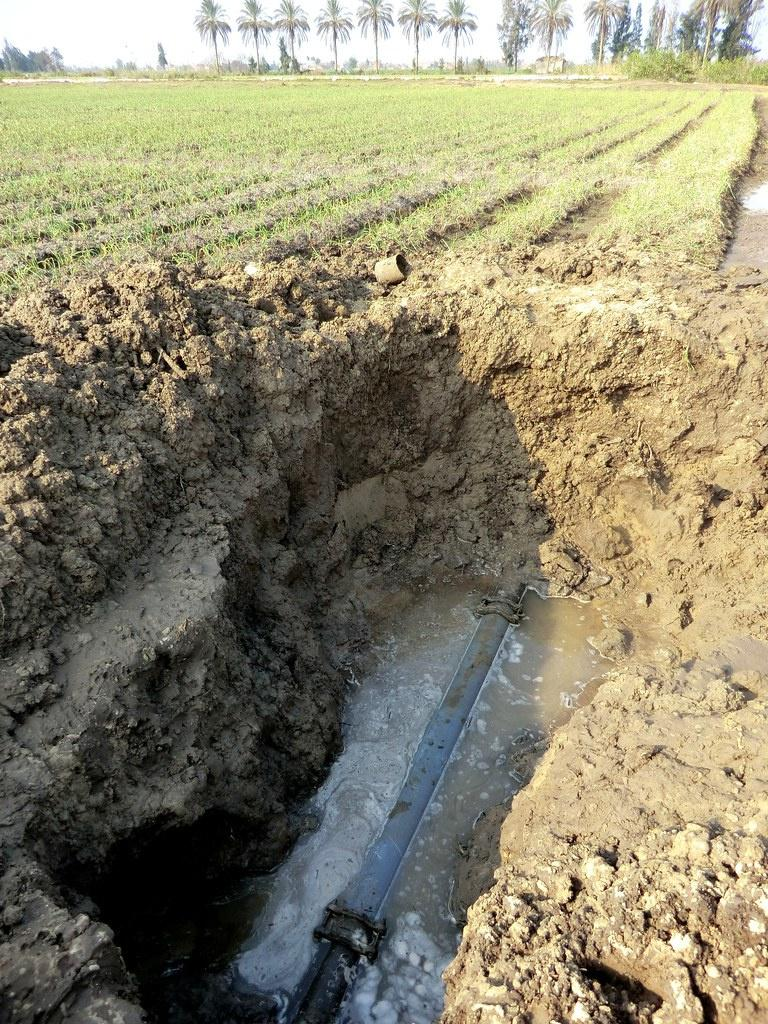water accumulation: (193, 572, 621, 1024)
